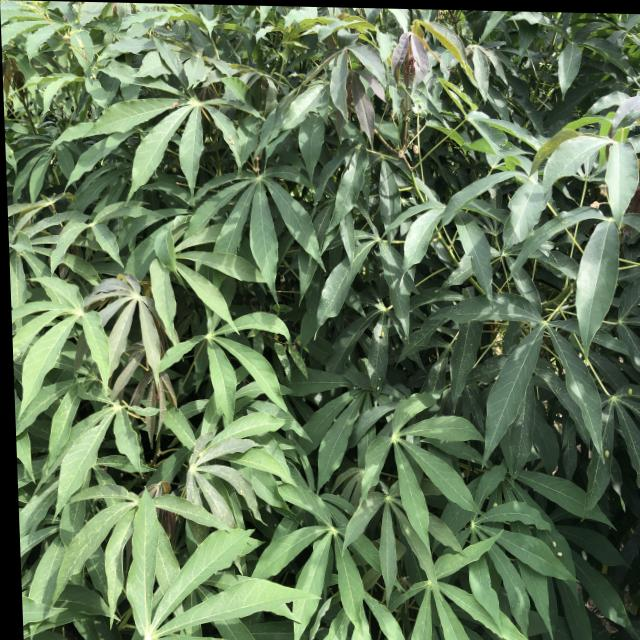Mosca: (548, 536, 570, 565), (599, 440, 615, 465), (615, 346, 627, 375), (368, 377, 386, 395), (377, 325, 390, 344), (486, 497, 499, 511)
